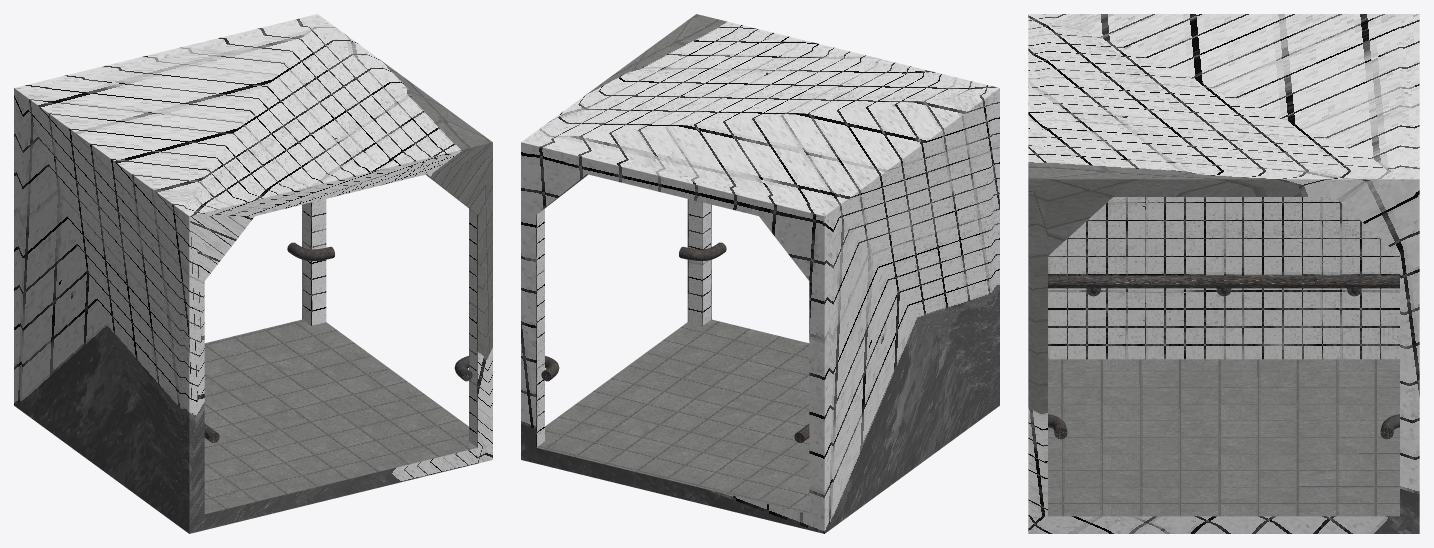
Rendered from TsectionShuin.glb.
3 views of the same model, side by side, from view 1: azimuth 30°, elevation 25°; view 2: azimuth 150°, elevation 25°; view 3: azimuth 270°, elevation 25° (orthographic). The views are drawn at different scales.
Visible parts, largest first — view 1: metro-Tsection, BézierCurve.008; view 2: metro-Tsection, BézierCurve.009; view 3: metro-Tsection, BézierCurve.010.
Boxes of the visible parts, x1=… form: metro-Tsection: x1=14, y1=14, x2=492, y2=533; BézierCurve.008: x1=287, y1=242, x2=334, y2=260; metro-Tsection: x1=521, y1=14, x2=999, y2=533; BézierCurve.009: x1=679, y1=242, x2=726, y2=260; metro-Tsection: x1=1028, y1=14, x2=1419, y2=533; BézierCurve.010: x1=1048, y1=275, x2=1399, y2=288.
Size of what is drawn, in the model's own units: 3 by 3 by 3.
2 materials, 2 textured.
